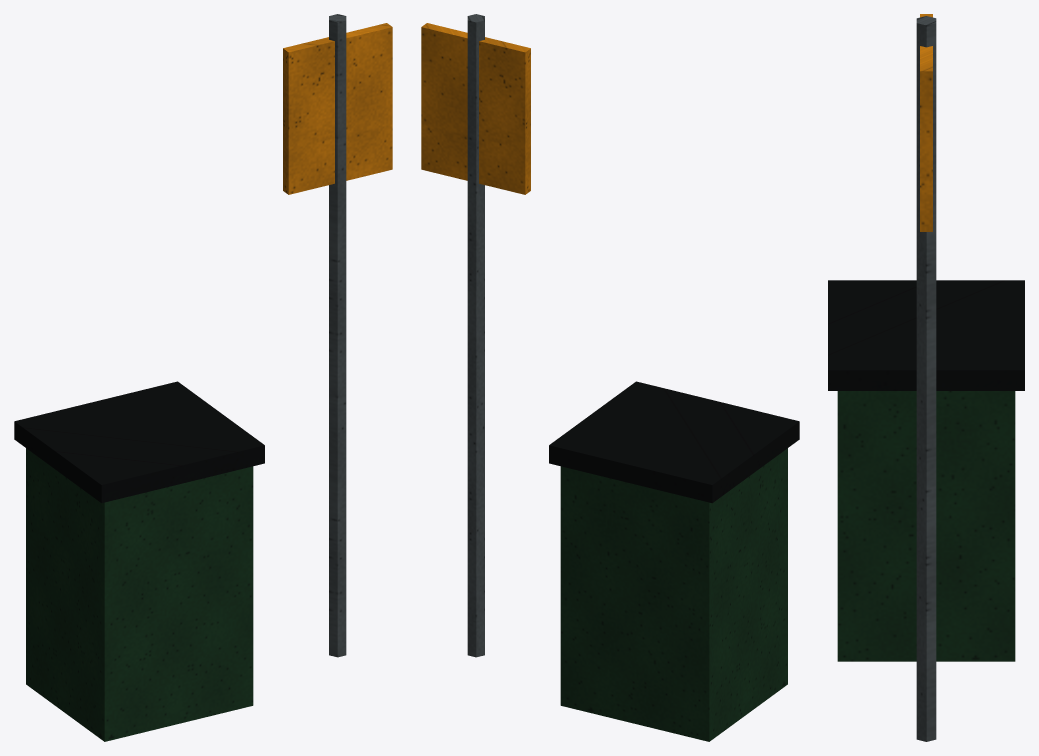
Rendered from PROP-9AB85BFF1770_lod2.glb.
The picture shows the model from 3 angles, left to right: view 1: azimuth 30°, elevation 25°; view 2: azimuth 150°, elevation 25°; view 3: azimuth 270°, elevation 25°; orthographic projection. The views are drawn at different scales.
Parts seen in each view (by area): view 1: waste_container.001, bin_lid.001, sign_plate.002, sign_post.002; view 2: waste_container.001, bin_lid.001, sign_plate.002, sign_post.002; view 3: waste_container.001, bin_lid.001, sign_post.002, sign_plate.002.
Boxes of the visible parts, left/top/right/bottom form: waste_container.001: left=26, top=448, right=253, bottom=741; bin_lid.001: left=14, top=381, right=264, bottom=503; sign_plate.002: left=283, top=23, right=392, bottom=194; sign_post.002: left=329, top=14, right=346, bottom=657; waste_container.001: left=560, top=448, right=787, bottom=741; bin_lid.001: left=549, top=381, right=799, bottom=503; sign_plate.002: left=421, top=23, right=530, bottom=194; sign_post.002: left=467, top=14, right=484, bottom=657; waste_container.001: left=837, top=391, right=1015, bottom=661; bin_lid.001: left=828, top=280, right=1024, bottom=390; sign_post.002: left=916, top=16, right=936, bottom=741; sign_plate.002: left=920, top=14, right=932, bottom=231.
Bounding box in the file's own units: 1.34 × 2.45 × 0.61.
Materials: 4 (4 with a texture image).
